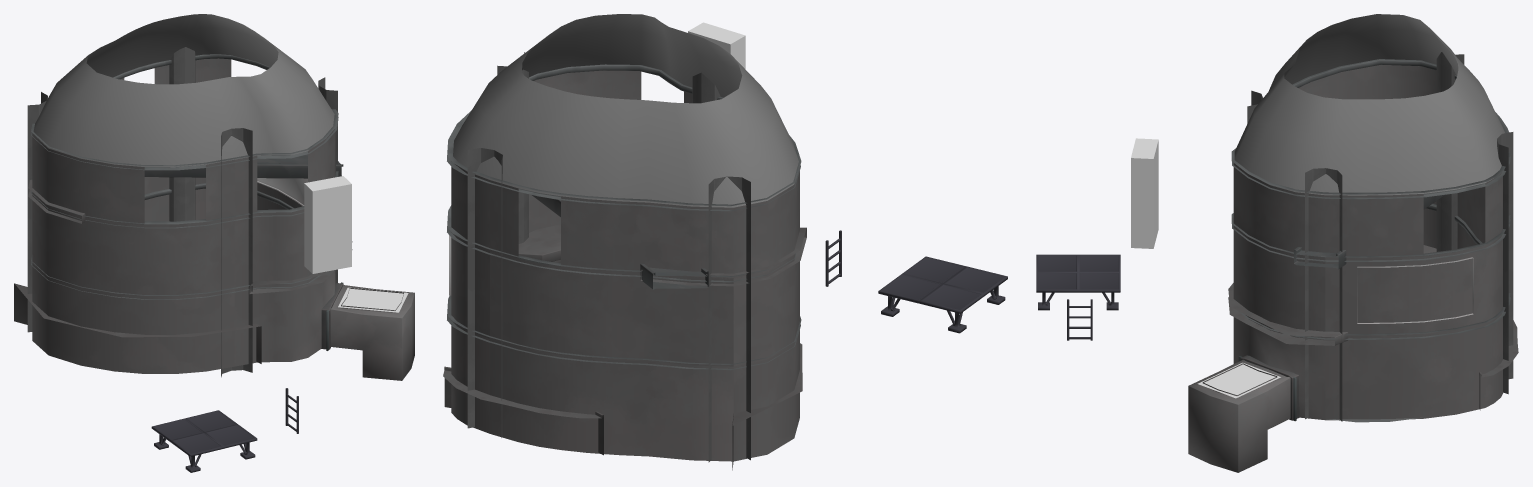
Rendered from enviro.fbx.
3 renders of one model, left to right at view 1: azimuth 30°, elevation 25°; view 2: azimuth 150°, elevation 25°; view 3: azimuth 270°, elevation 25°, orthographic. The views are drawn at different scales.
Parts seen in each view (by area): view 1: wall4, wall01, wall02, wall03, columns, breaker01, drabinka, platform_02, bridge, podest02, tutorial light, scoreboard (+3 smaller); view 2: wall4, wall01, wall02, wall03, columns, breaker01, platform_02, podest01, podest03, bridge, drabinka, podest04 (+1 smaller); view 3: wall4, wall01, wall02, wall03, columns, breaker01, platform_02, drabinka, podest03, tutorial light, bridge, doorFrame (+2 smaller).
Part boxes in pixels (<box>): wall4: <box>32,14,334,167</box>; wall01: <box>32,188,414,380</box>; wall02: <box>32,177,311,296</box>; wall03: <box>32,58,335,225</box>; columns: <box>27,47,337,377</box>; breaker01: <box>31,54,338,299</box>; drabinka: <box>304,176,351,273</box>; platform_02: <box>151,410,257,472</box>; bridge: <box>144,154,343,178</box>; podest02: <box>14,283,261,363</box>; tutorial light: <box>338,287,408,312</box>; scoreboard: <box>257,178,307,206</box>; wall4: <box>453,14,798,207</box>; wall01: <box>451,259,799,461</box>; wall02: <box>451,194,799,366</box>; wall03: <box>451,70,799,278</box>; columns: <box>467,52,750,462</box>; breaker01: <box>447,64,801,370</box>; platform_02: <box>878,256,1007,333</box>; podest01: <box>443,366,603,455</box>; podest03: <box>518,224,560,261</box>; bridge: <box>532,195,708,289</box>; drabinka: <box>688,22,745,69</box>; podest04: <box>640,227,806,286</box>; wall4: <box>1234,14,1504,195</box>; wall01: <box>1188,208,1502,472</box>; wall02: <box>1233,187,1502,336</box>; wall03: <box>1233,65,1502,258</box>; columns: <box>1247,52,1513,421</box>; breaker01: <box>1231,59,1510,339</box>; platform_02: <box>1036,254,1120,310</box>; drabinka: <box>1131,138,1158,248</box>; podest03: <box>1228,283,1348,345</box>; tutorial light: <box>1197,362,1280,398</box>; bridge: <box>1294,194,1445,269</box>; doorFrame: <box>1240,355,1299,420</box>.
Bounding box in the file's own units: 1739 × 1562 × 2106.
